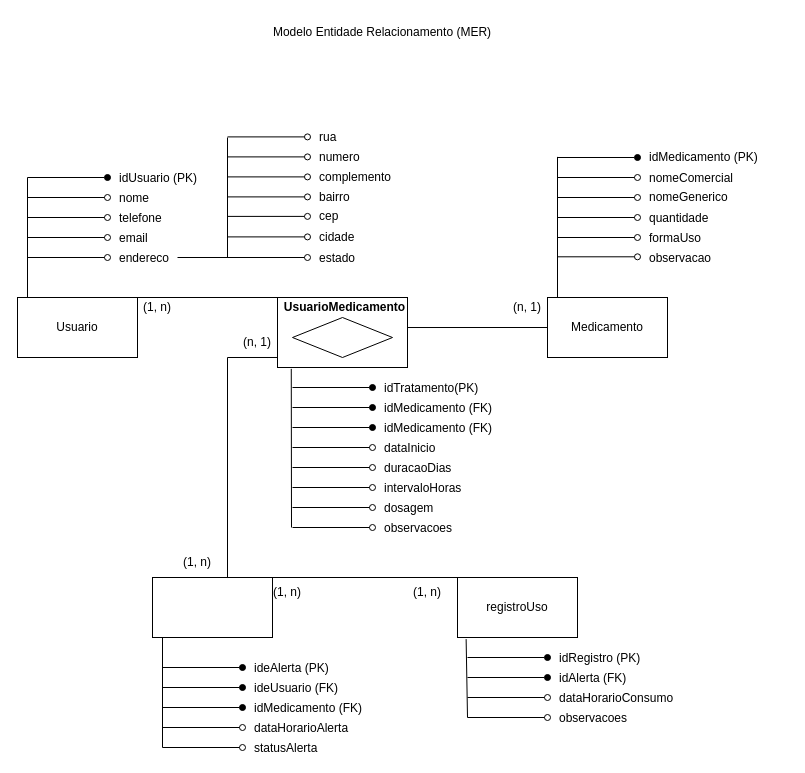
Image size: 805x773. Some labels were removed from this diagram. The shapes that lost their labels are listed below. From the top down, each one's centre as x and y in pixels, then its label:
At point 342,337: "consome".
At point 212,607: "Alerta".
